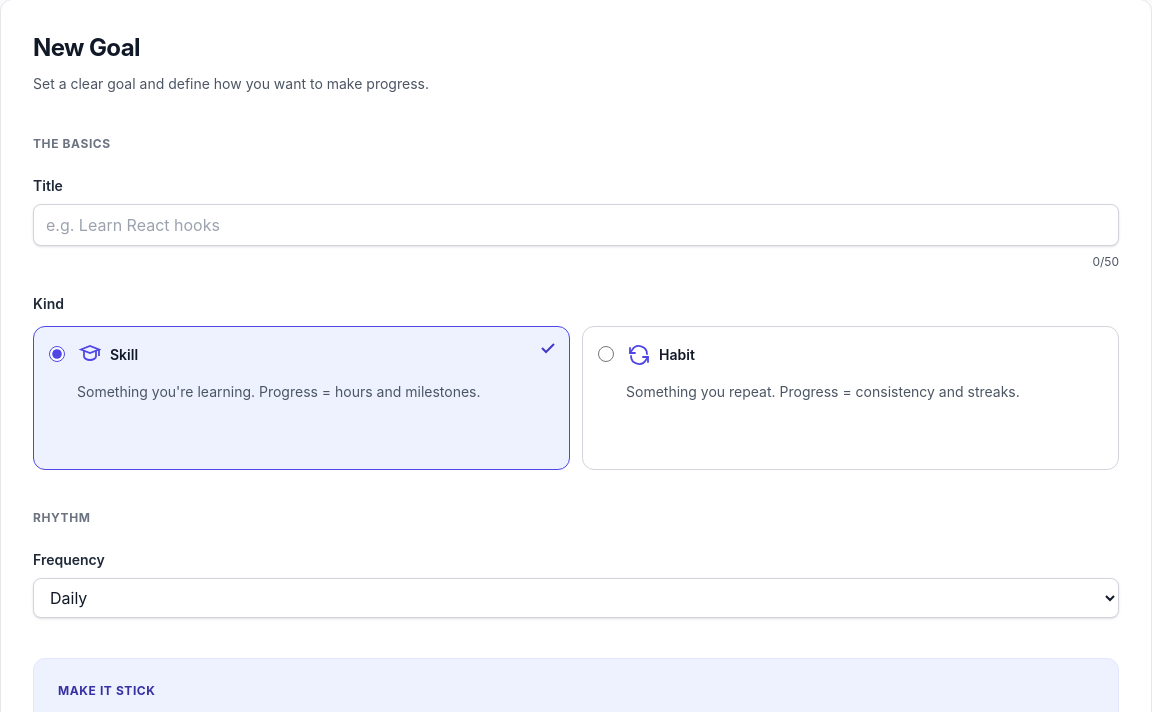
Test: GoalForm › rejects a title with two characters
In the field labelled "Title": {"x": 576, "y": 225} [33,204,1119,246], type "ab"
(page scrolled)
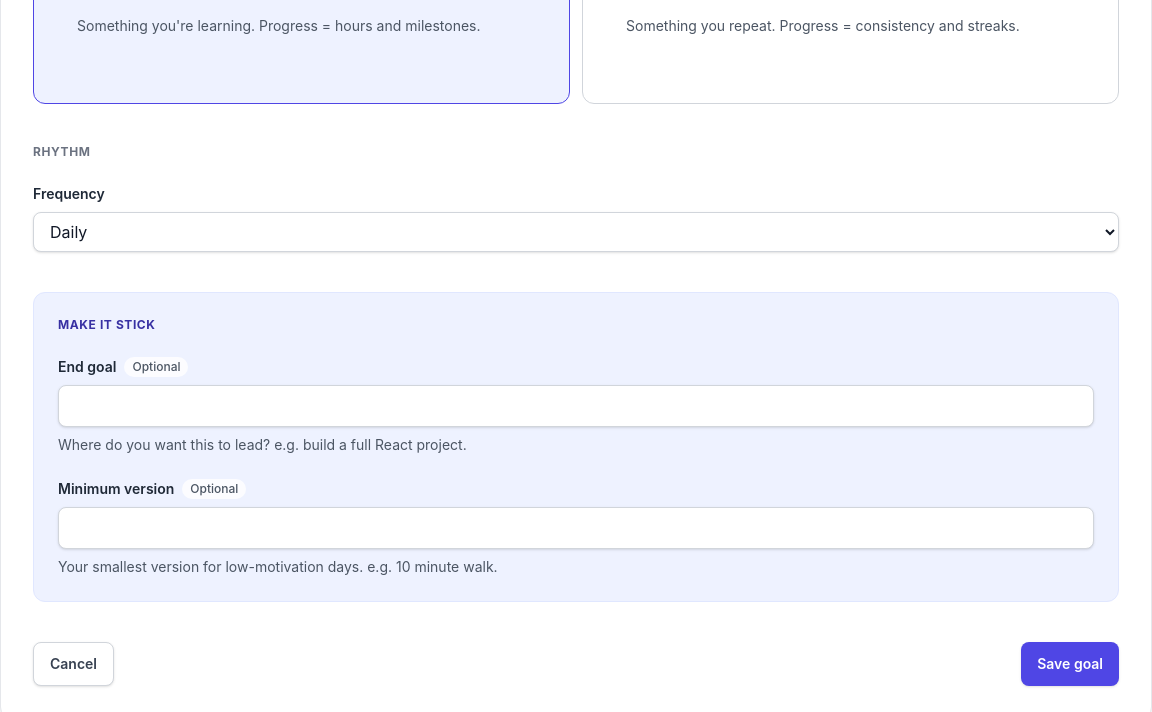
Click the button "Save goal": {"x": 1070, "y": 664} [1021,642,1119,686]
(page scrolled)
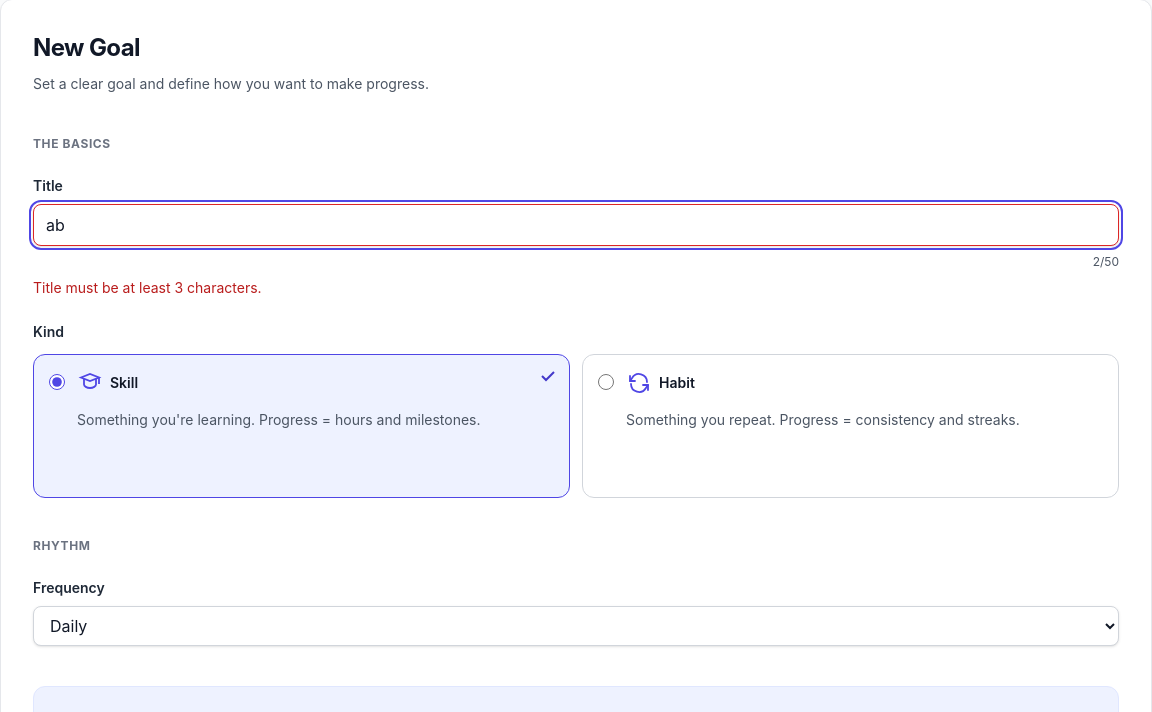
Result: the text "Title must be at least 3 characters." is shown at [33,279,262,296]
